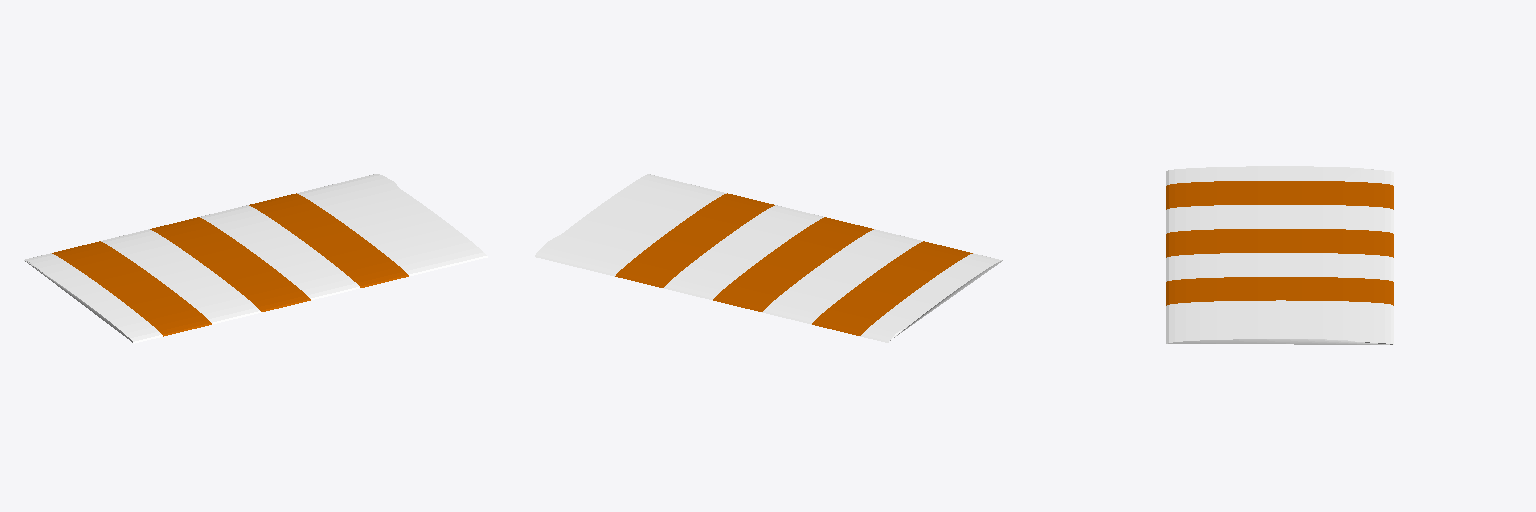
File: 과속방지턱.obj
3 views of the same model, side by side, from view 1: azimuth 30°, elevation 25°; view 2: azimuth 150°, elevation 25°; view 3: azimuth 270°, elevation 25° (orthographic).
Parts seen in each view (by area): view 1: 과속방지턱_실린더; view 2: 과속방지턱_실린더; view 3: 과속방지턱_실린더.
Part boxes in pixels (x1,y1,x2,y2): 과속방지턱_실린더: (24,174,487,343); 과속방지턱_실린더: (535,174,1002,342); 과속방지턱_실린더: (1166,166,1393,344).
Size of the model in its own units: 7.27 by 0.1 by 4.